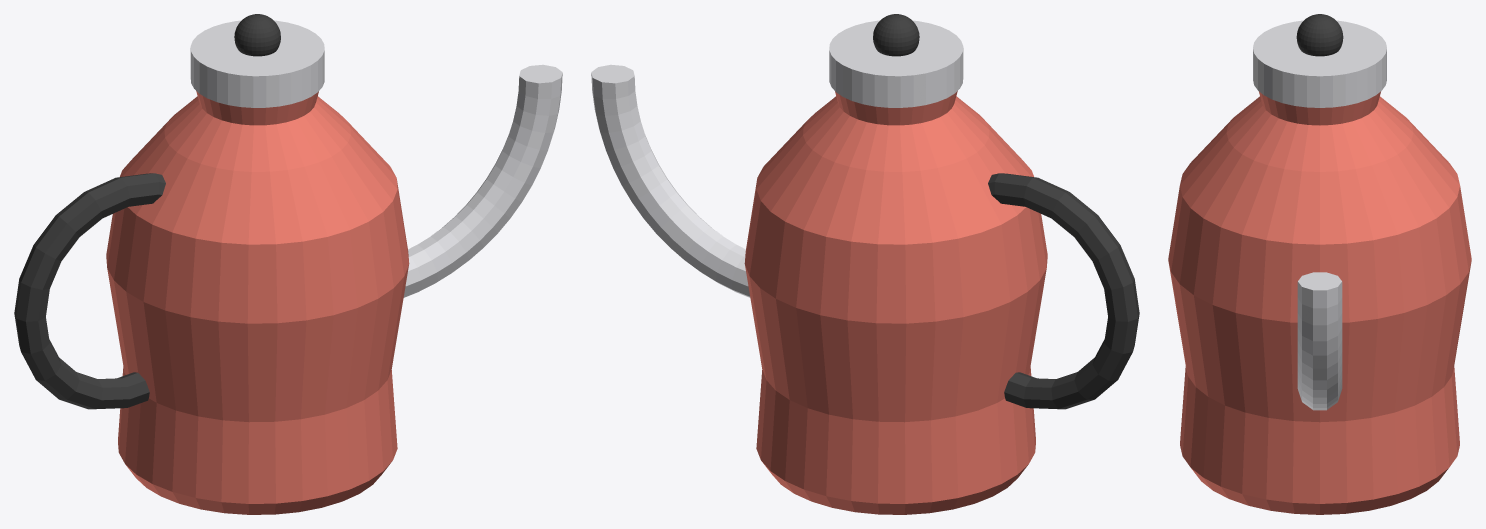
The model's file is Kettle.fbx.
3 views of the same model, side by side, from view 1: azimuth 30°, elevation 25°; view 2: azimuth 150°, elevation 25°; view 3: azimuth 270°, elevation 25° (orthographic).
Parts seen in each view (by area): view 1: KettleBody, Handle, Spout, Cylinder, Sphere; view 2: KettleBody, Handle, Spout, Cylinder, Sphere; view 3: KettleBody, Cylinder, Spout, Sphere.
Boxes of the visible parts, x1,y1,x2,y2 form: KettleBody: (106, 91, 409, 514); Handle: (14, 173, 165, 409); Spout: (403, 64, 562, 297); Cylinder: (190, 20, 324, 107); Sphere: (234, 14, 280, 56); KettleBody: (744, 91, 1047, 514); Handle: (988, 173, 1139, 409); Spout: (591, 64, 750, 297); Cylinder: (829, 20, 963, 107); Sphere: (873, 14, 919, 56); KettleBody: (1168, 91, 1471, 514); Cylinder: (1253, 20, 1386, 107); Spout: (1297, 272, 1342, 410); Sphere: (1296, 14, 1343, 56).
Bounding box in the file's own units: 107 × 84 × 52.
